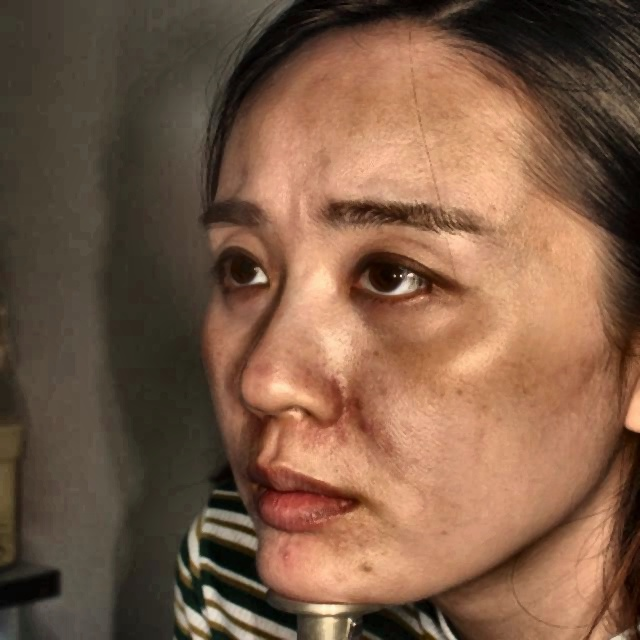comedone: (351, 399, 373, 445), (278, 537, 298, 567)
